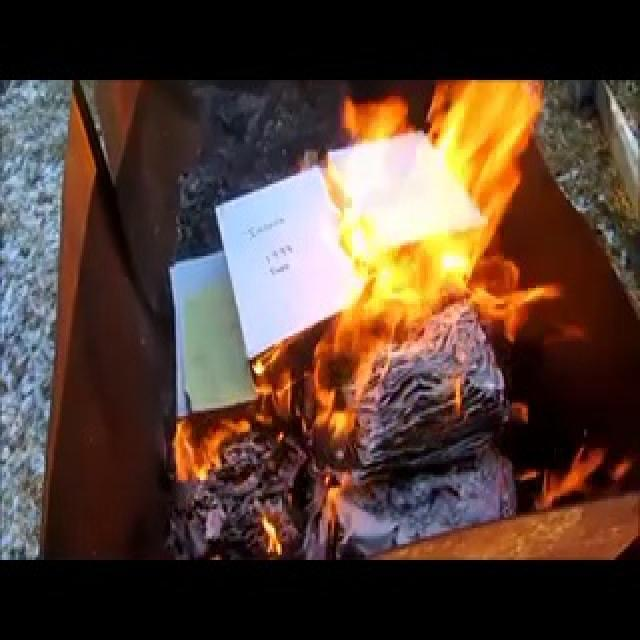Fire: (287, 78, 581, 446), (158, 406, 258, 544)
